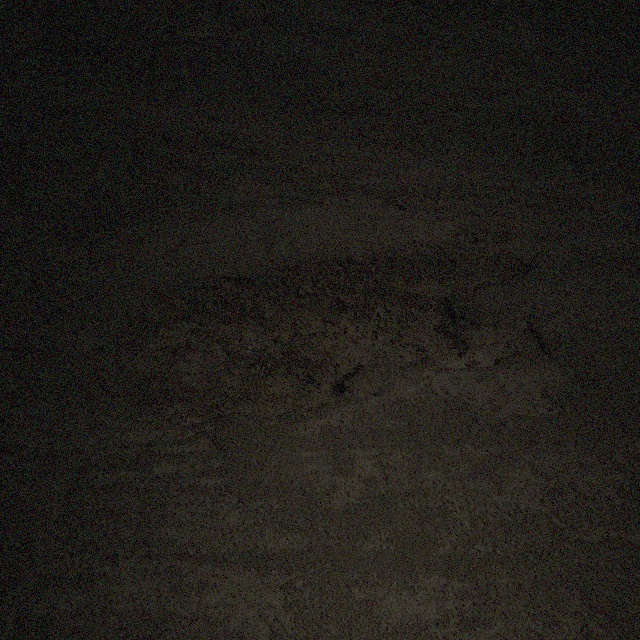pothole: (114, 243, 549, 427)
